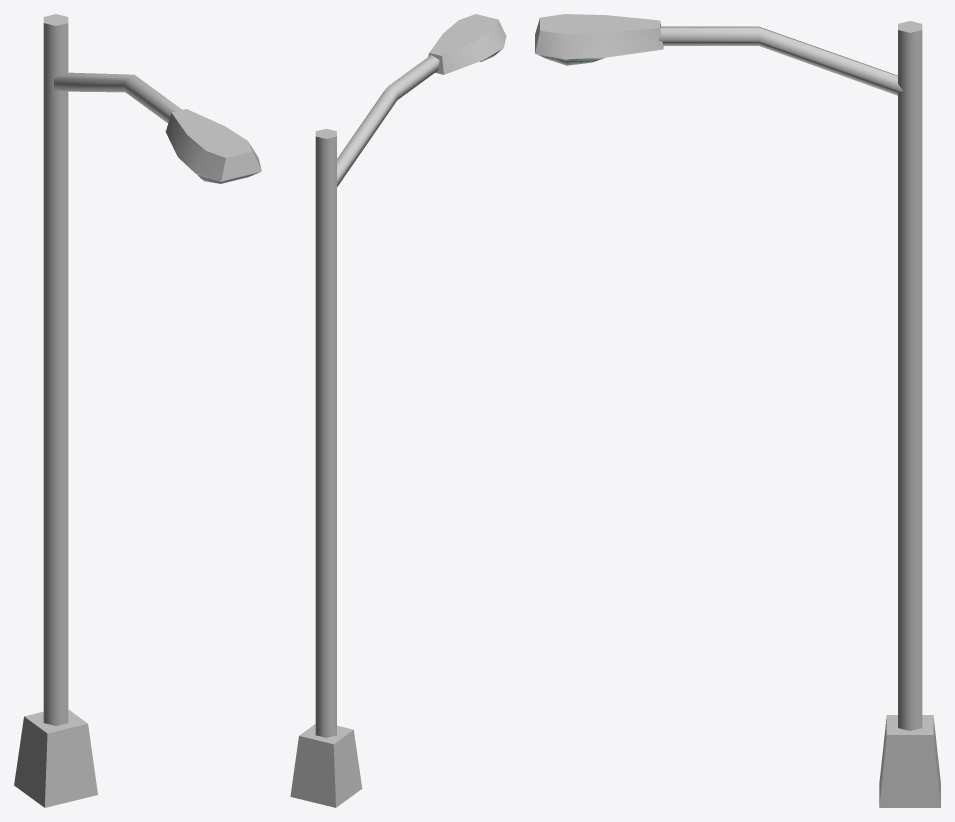
The model's file is streetLight01.fbx.
3 views of the same model, side by side, from view 1: azimuth 30°, elevation 25°; view 2: azimuth 150°, elevation 25°; view 3: azimuth 270°, elevation 25° (orthographic). The views are drawn at different scales.
Parts seen in each view (by area): view 1: streetLight01; view 2: streetLight01; view 3: streetLight01.
Boxes of the visible parts, <box> form: streetLight01: <box>14,14,261,807</box>; streetLight01: <box>290,14,506,807</box>; streetLight01: <box>535,14,940,807</box>.
Bounding box in the file's own units: 66.81 × 776 × 371.
